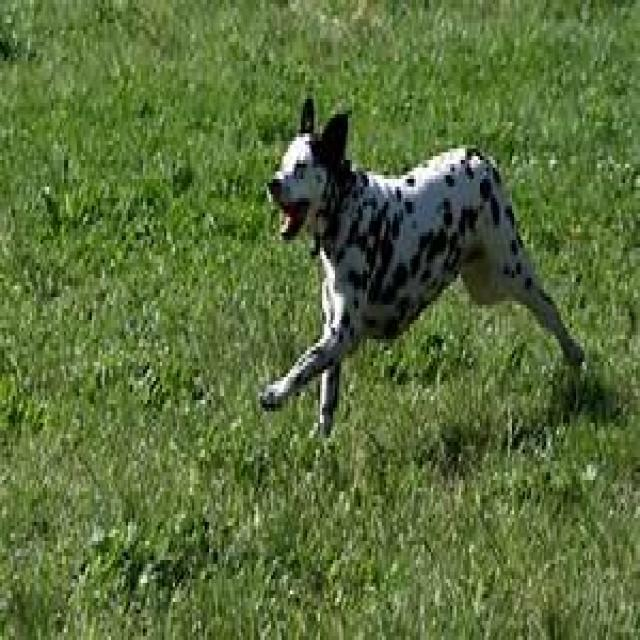dog: (261, 100, 584, 430)
